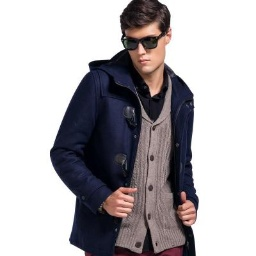face: (118, 1, 175, 73)
